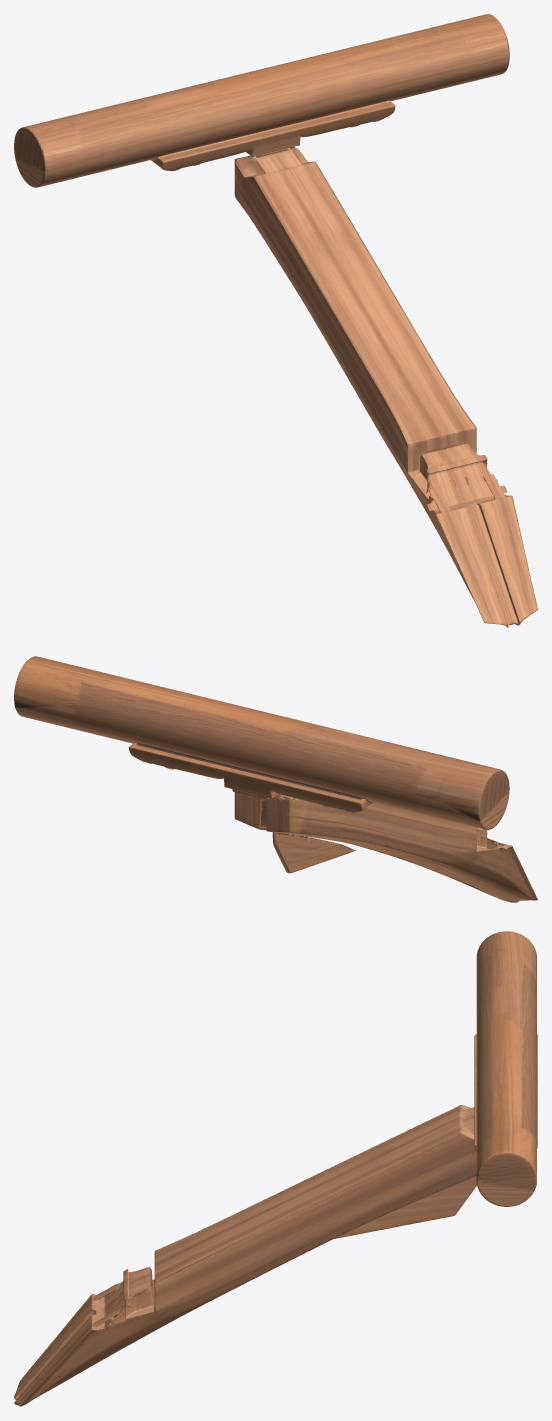
Rendered from 6昂尾下皮置鞾楔与一道下昂（批竹昂起棱出尖）、昂尾上置散斗、替木、平槫.glb.
3 renders of one model, top to bottom at view 1: azimuth 30°, elevation 25°; view 2: azimuth 150°, elevation 25°; view 3: azimuth 270°, elevation 25°, orthographic. The views are drawn at different scales.
Size of the model in its own units: 1.9 by 1.44 by 1.9.
Materials: 1 (1 with a texture image).
